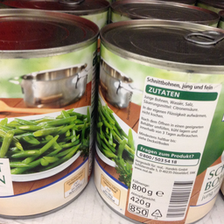beans: (97, 20, 223, 224), (1, 11, 98, 222)
